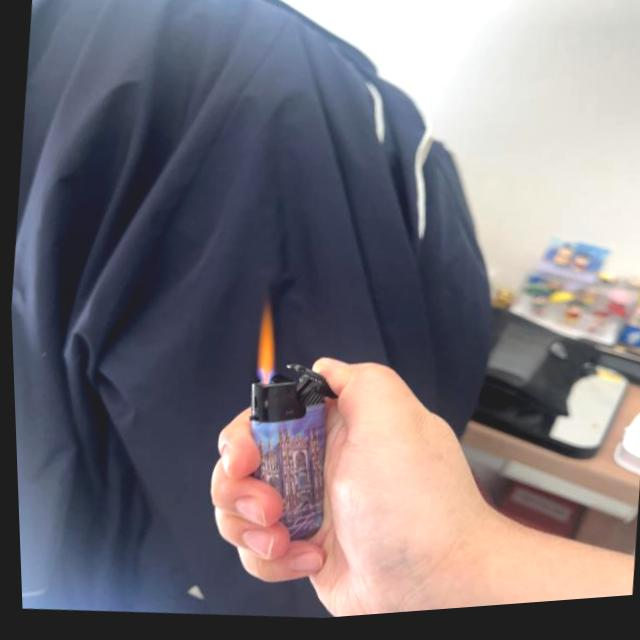helmet: (244, 303, 282, 385)
